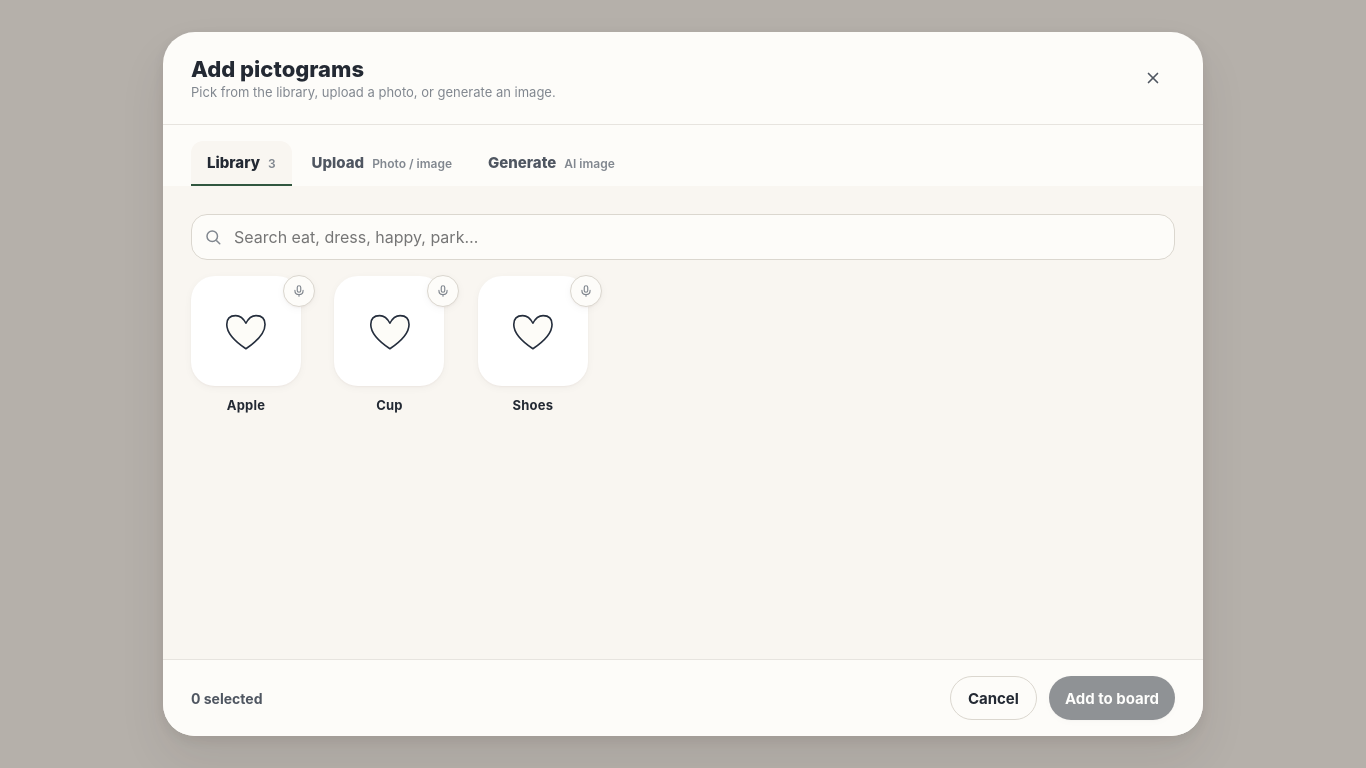
PictoPicker › disables Add to board until a pictogram is selected (#523)
Expected: the button "Add to board" is disabled, left=1049, top=676, right=1175, bottom=720
What coordinates should you click on to do the following:
click the button "Apple"
I would click on:
 (246, 345)
Its box is left=191, top=276, right=301, bottom=414.
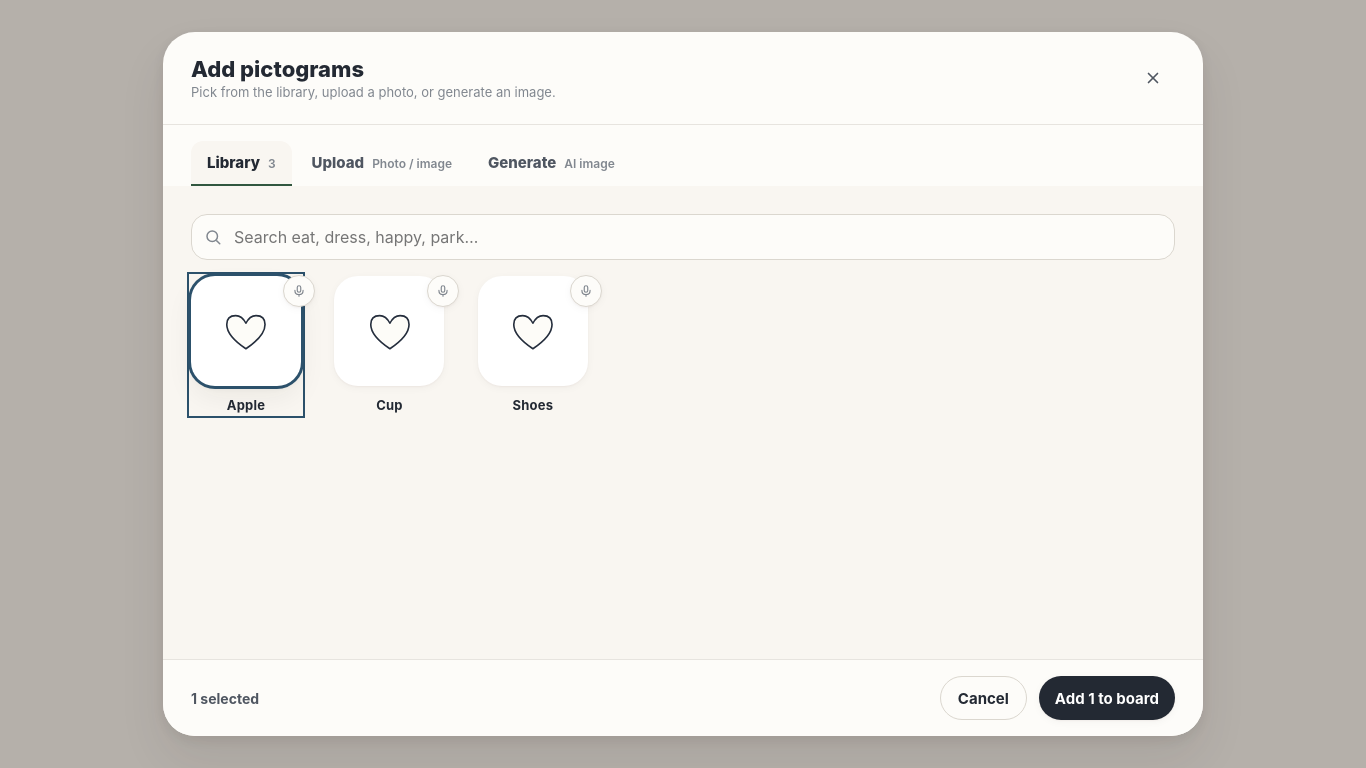
Now the button "Add 1 to board" is enabled, box left=1039, top=676, right=1175, bottom=720
